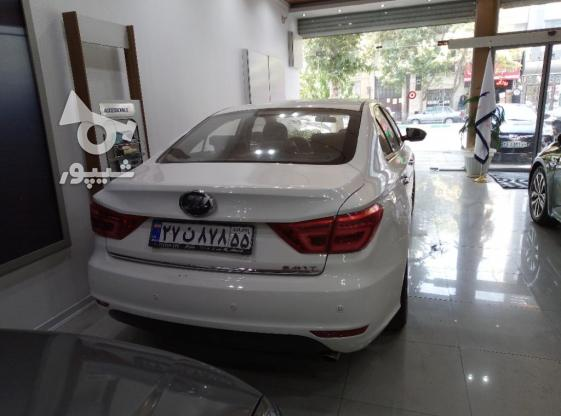car: (145, 221, 254, 252)
